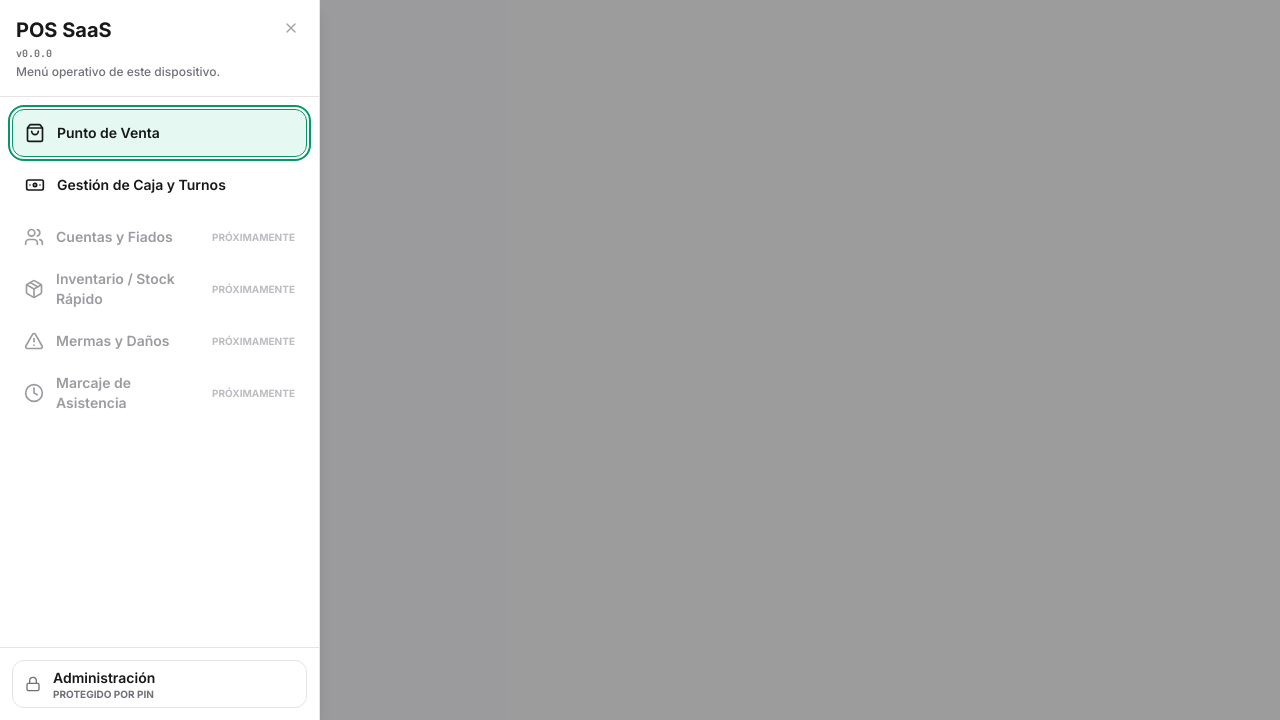
it: NavigationSheet › never renders the digits of the admin PIN
The width and height of the screenshot is (1280, 720).
Step 1. Click the button with test id "nav-admin-lock" → [104, 678], box [12,660,307,708]
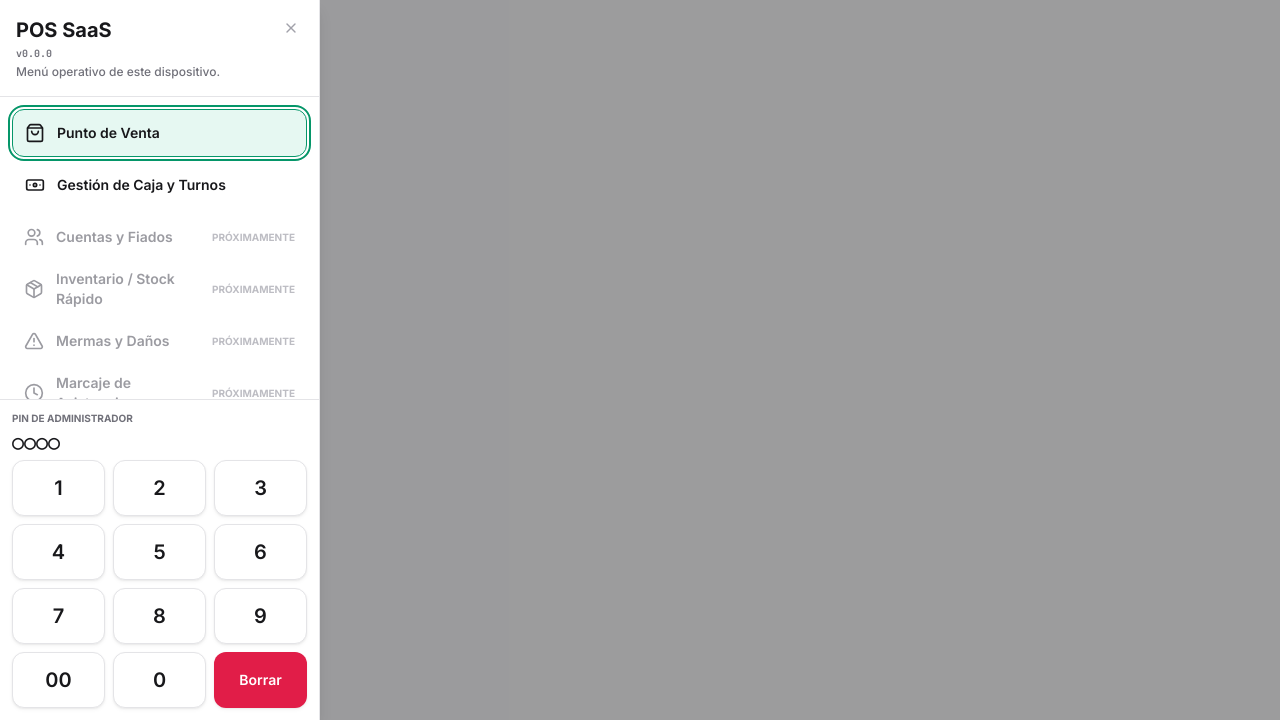
Step 2. Click the button "7" → [58, 616], box [12,588,105,644]
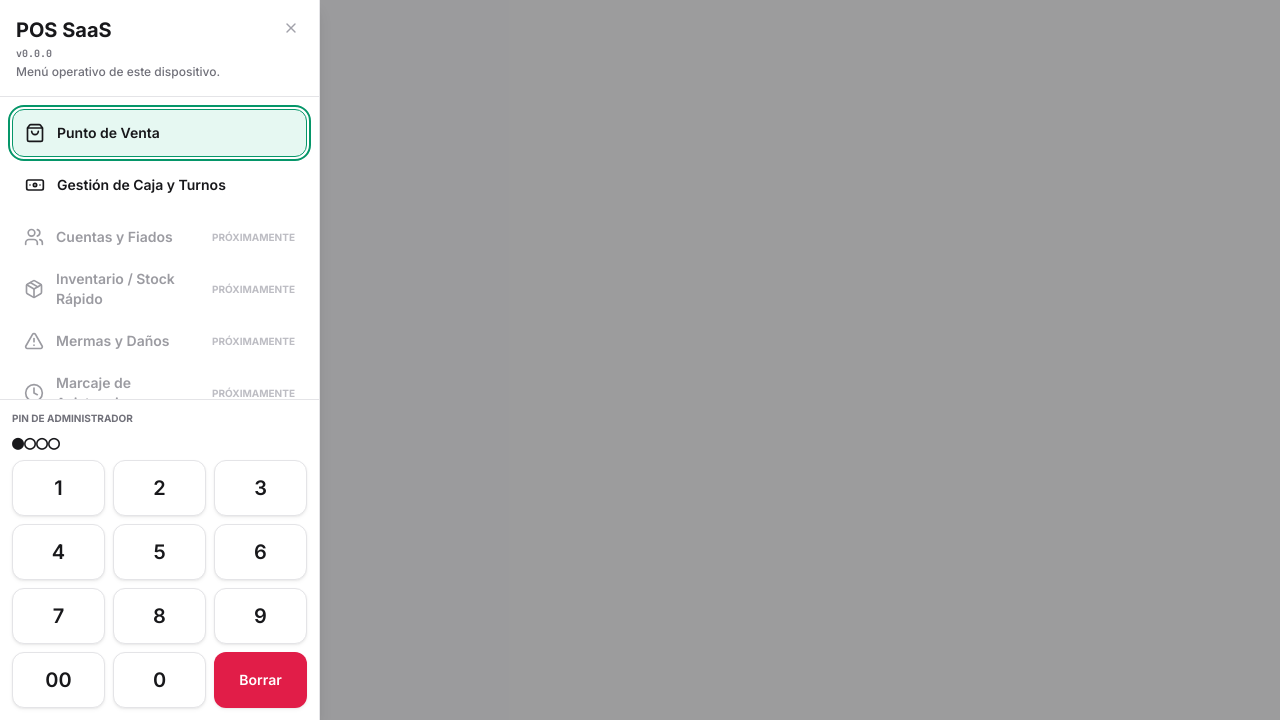
Step 3. Click the button "3" → [260, 488], box [214,460,307,516]
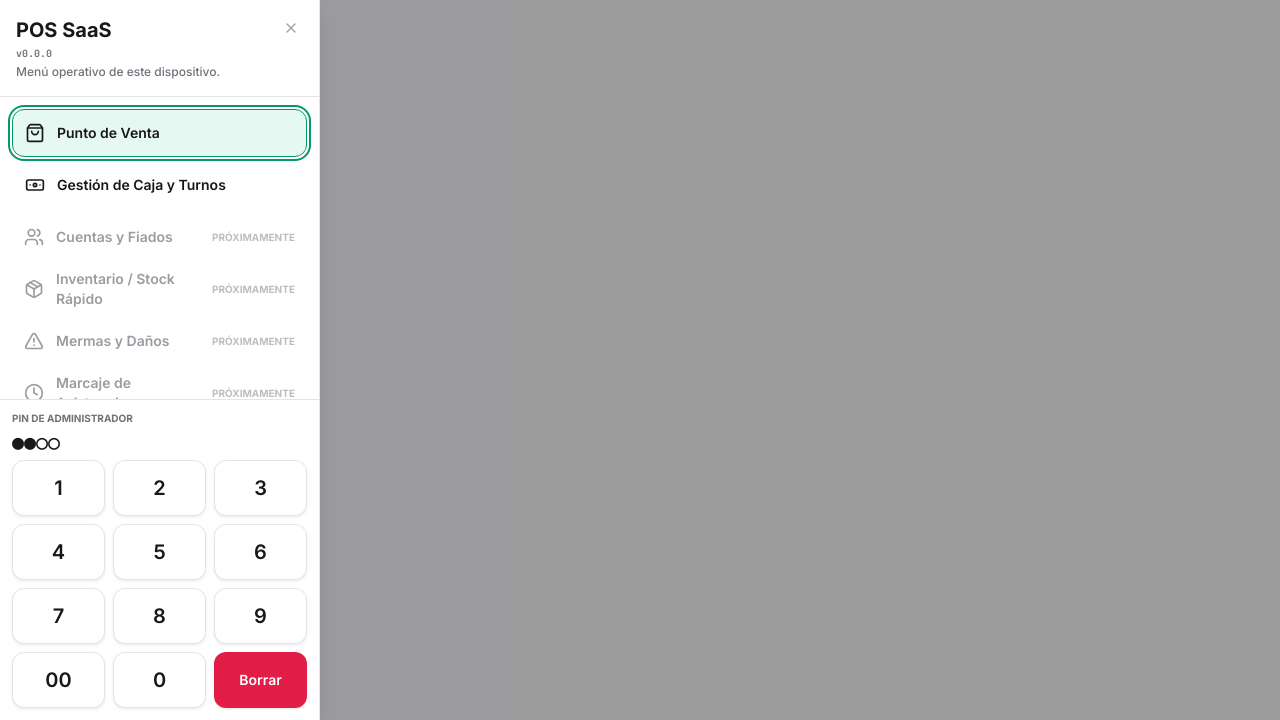
Step 4. Click the button "9" → [260, 616], box [214,588,307,644]
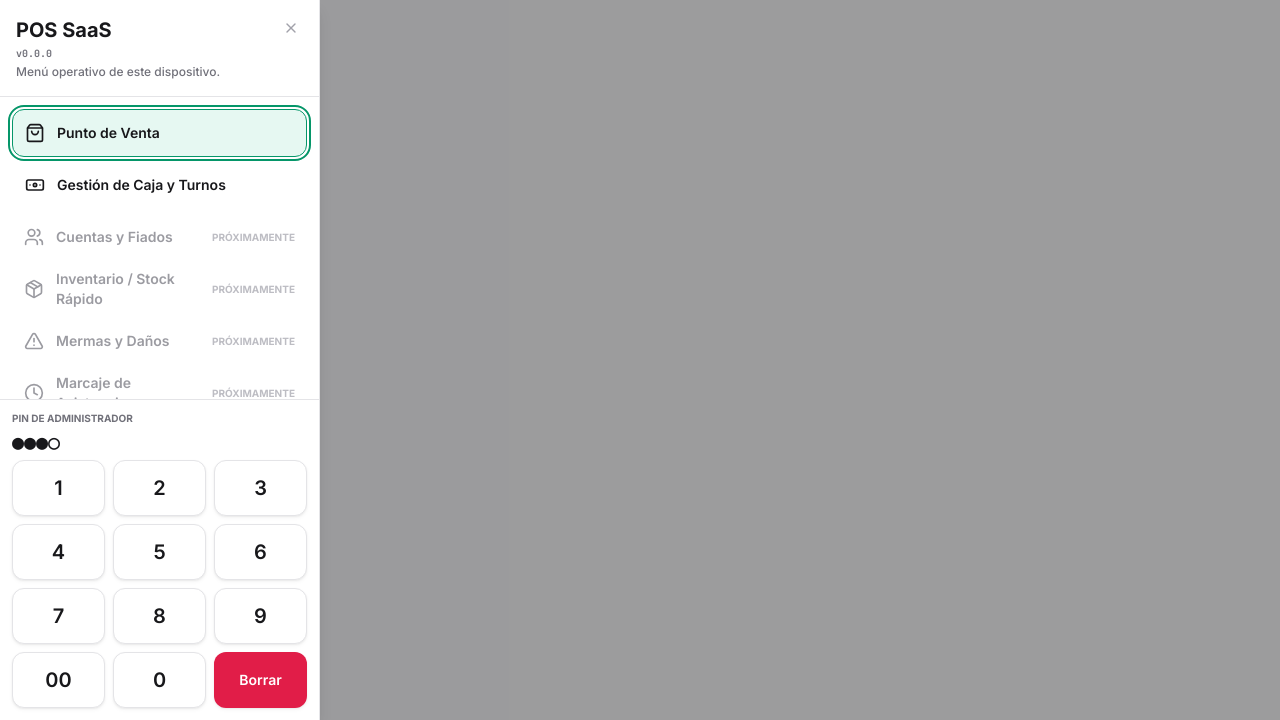
expect the text with test id "nav-admin-pin-display" reads "●●●○": met, box [12,429,60,455]
